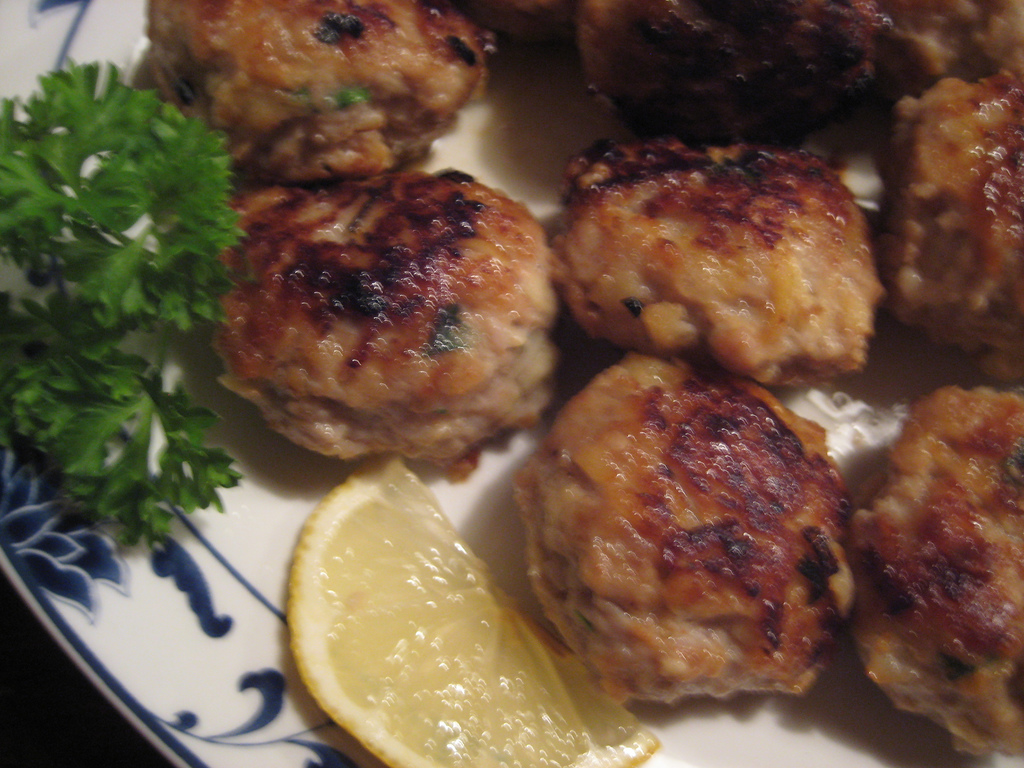chopped lettuce: (34, 138, 188, 573)
meatballs: (601, 150, 870, 627), (252, 189, 568, 425)
